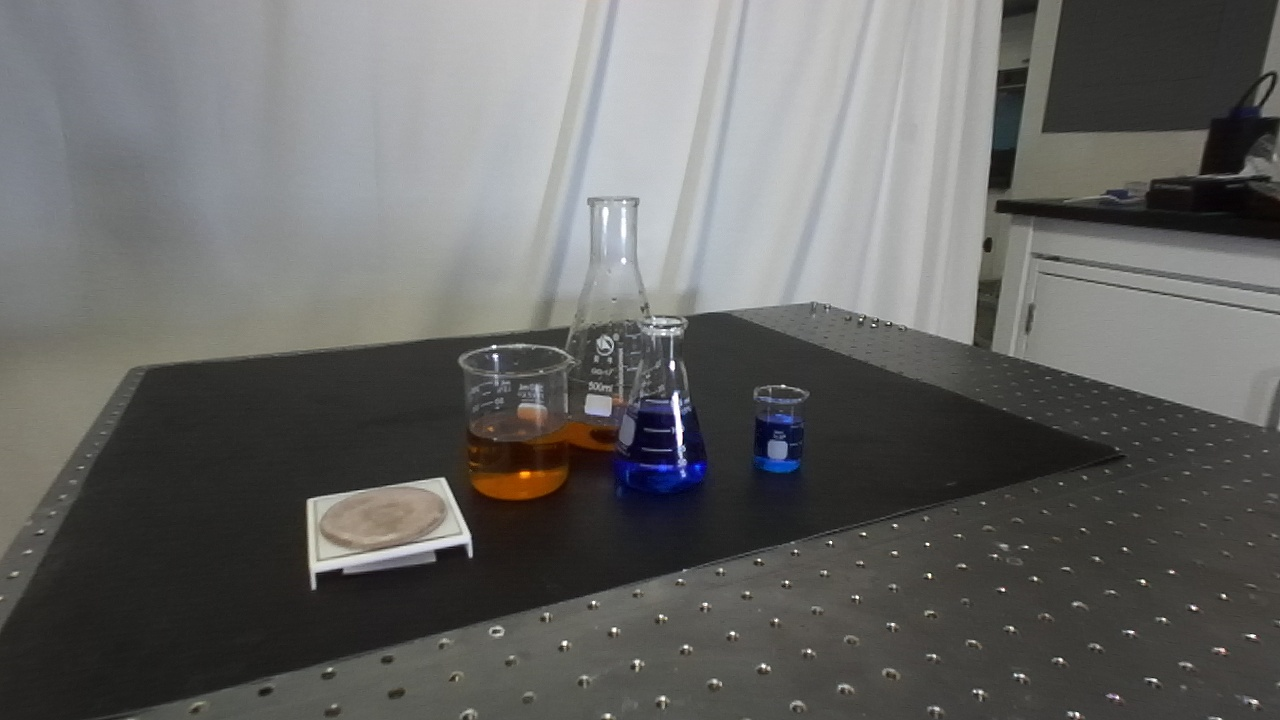glass: (551, 189, 680, 469), (452, 338, 578, 508), (610, 314, 711, 503), (749, 382, 811, 478)
plate: (294, 472, 473, 586)
